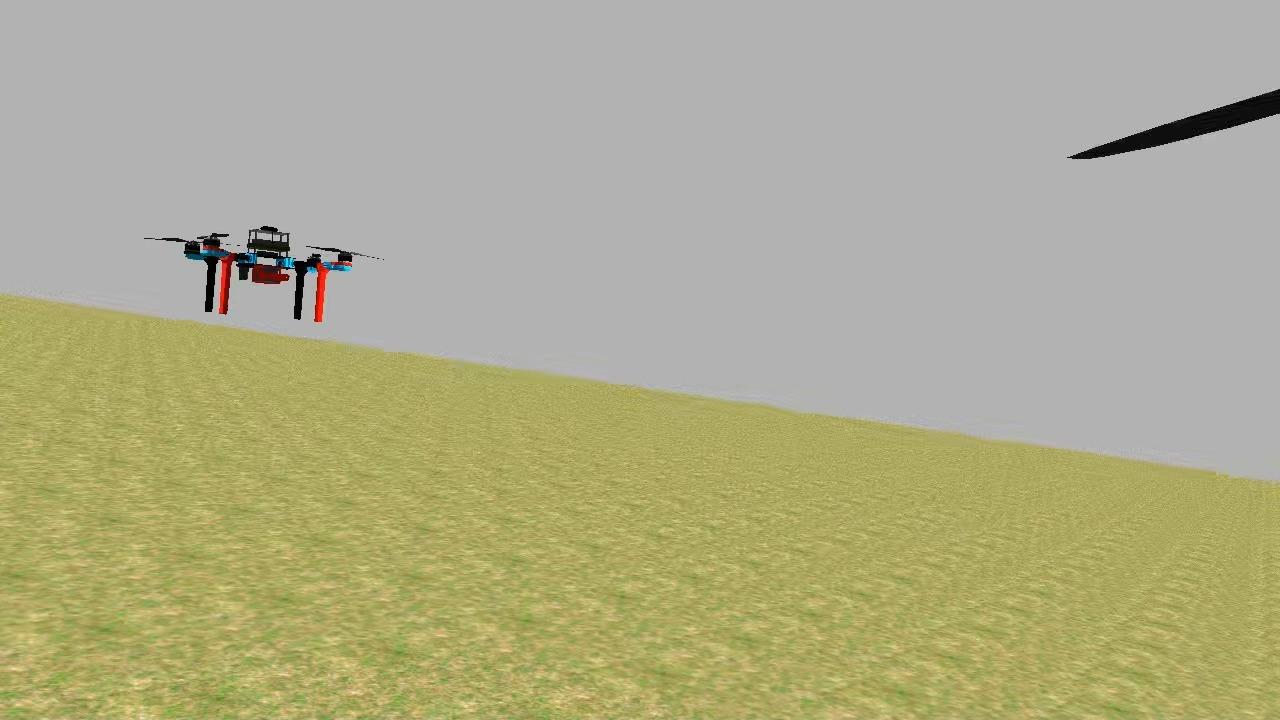UAV: (174, 216, 360, 324)
